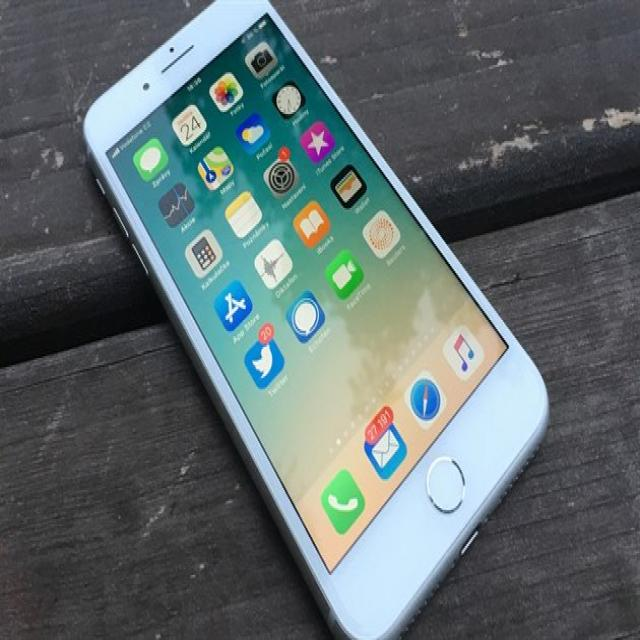mobile phone: (80, 0, 549, 636)
